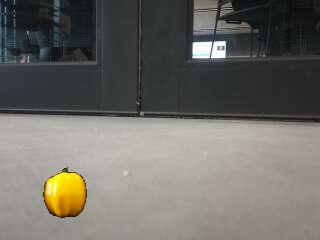Capsicum: (43, 166, 89, 220)
